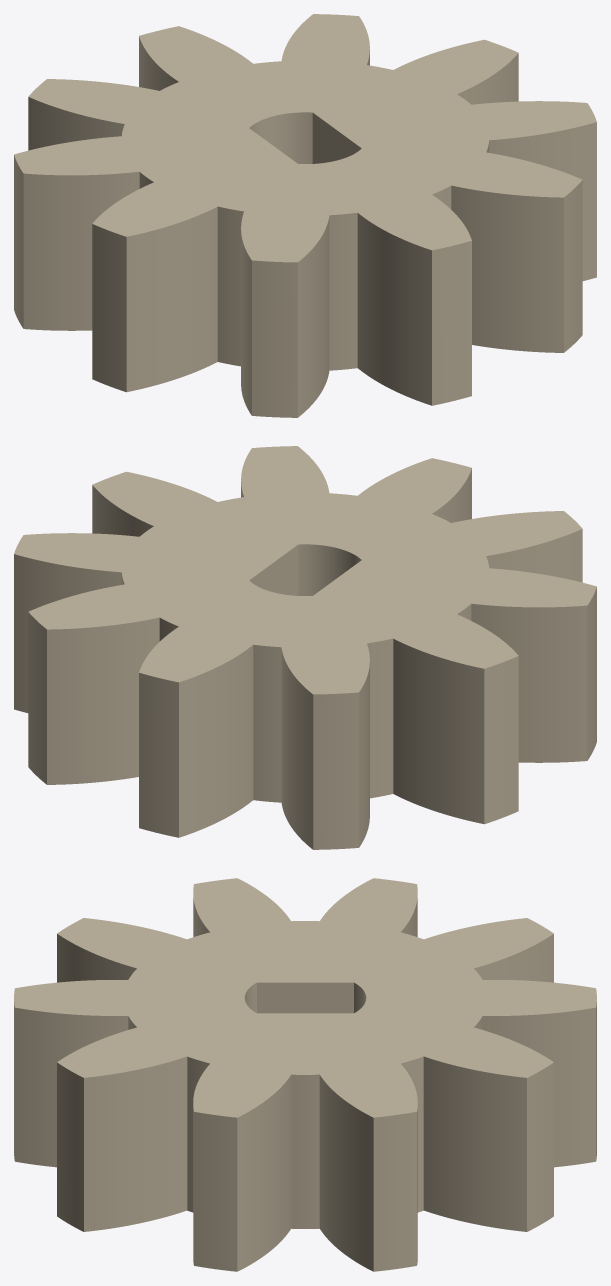
Rendered from small_gear.glb.
3 renders of one model, top to bottom at view 1: azimuth 30°, elevation 25°; view 2: azimuth 150°, elevation 25°; view 3: azimuth 270°, elevation 25°, orthographic.
Visible parts, largest first — view 1: small_gear; view 2: small_gear; view 3: small_gear.
Boxes of the visible parts, x1,y1,x2,y2 form: small_gear: [14, 14, 596, 417]; small_gear: [14, 446, 596, 849]; small_gear: [14, 878, 596, 1271].
Bounding box in the file's own units: 23.34 × 7 × 24.
